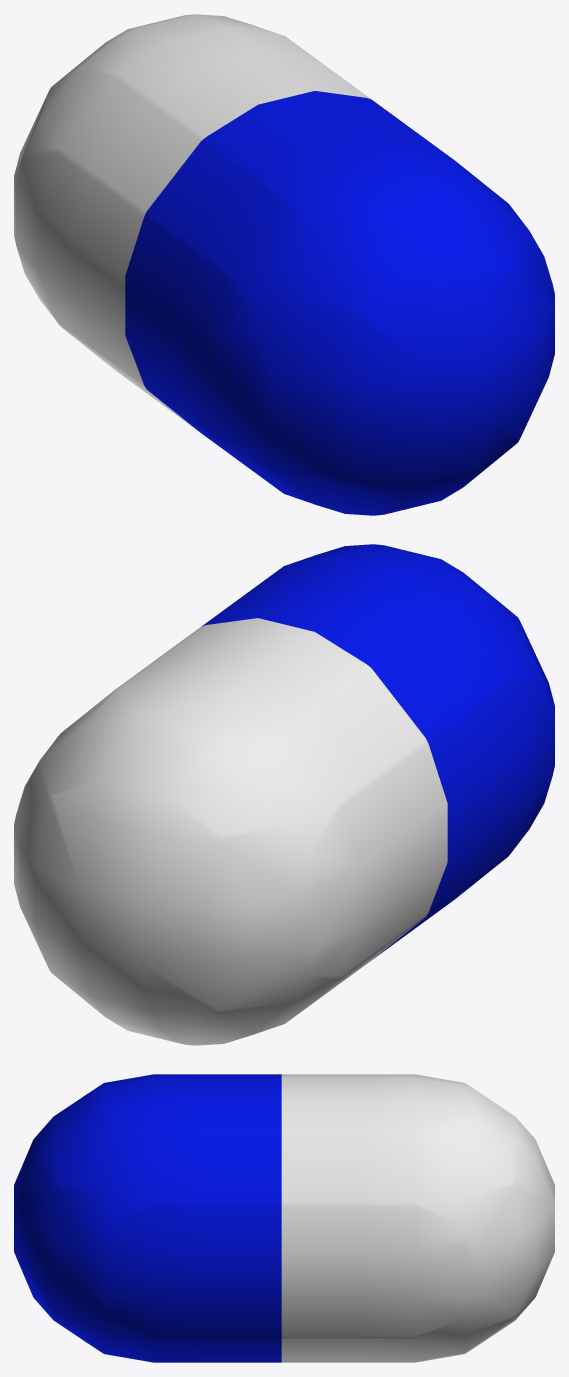
Rendered from antibiotikum.glb.
The picture shows the model from 3 angles, top to bottom: view 1: azimuth 30°, elevation 25°; view 2: azimuth 150°, elevation 25°; view 3: azimuth 270°, elevation 25°; orthographic projection. The views are drawn at different scales.
Visible parts, largest first — view 1: Mball.002, Mball.001; view 2: Mball.001, Mball.002; view 3: Mball.001, Mball.002.
Boxes of the visible parts, box(x1,y1,x2,y2) form: Mball.002: box(125, 91, 554, 515); Mball.001: box(14, 14, 370, 431); Mball.001: box(14, 618, 447, 1045); Mball.002: box(201, 544, 554, 957); Mball.001: box(281, 1074, 554, 1362); Mball.002: box(14, 1074, 281, 1362).
Size of the model in its own units: 1.57 by 1.57 by 2.98.
